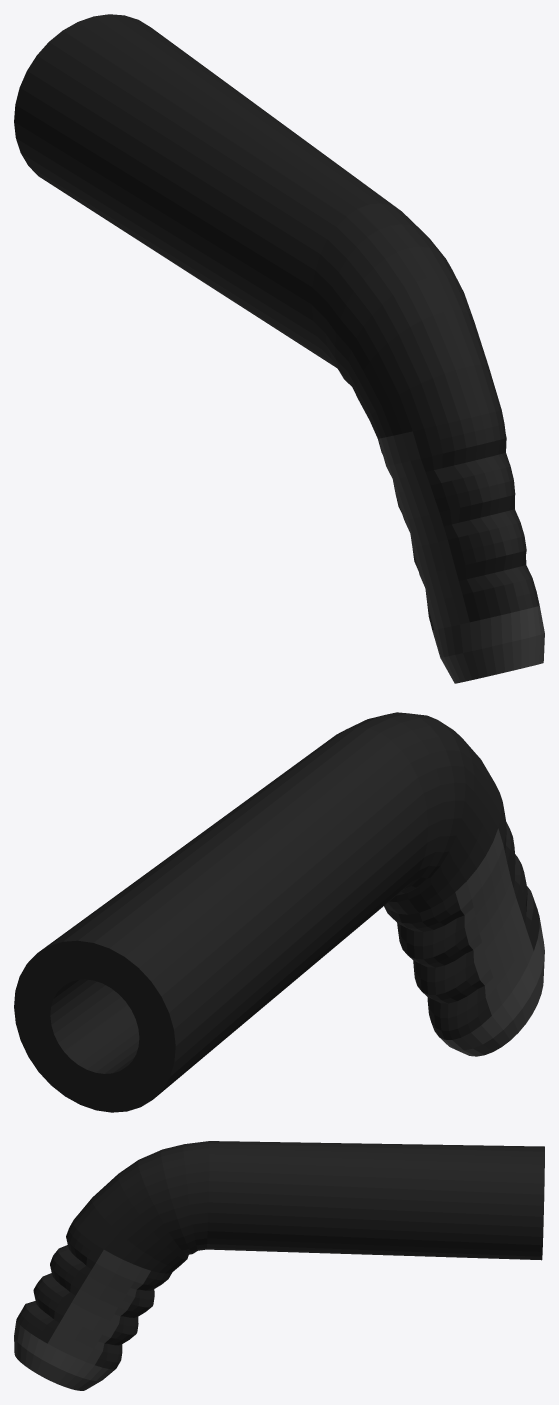
The model's file is GUN1.fbx.
The picture shows the model from 3 angles, top to bottom: view 1: azimuth 30°, elevation 25°; view 2: azimuth 150°, elevation 25°; view 3: azimuth 270°, elevation 25°; orthographic projection. The views are drawn at different scales.
Visible parts, largest first — view 1: Circle; view 2: Circle; view 3: Circle.
Boxes of the visible parts, x1,y1,x2,y2 form: Circle: [14, 14, 544, 683]; Circle: [14, 712, 544, 1112]; Circle: [14, 1141, 544, 1390].
Size of the model in its own units: 78.89 by 187 by 368.
